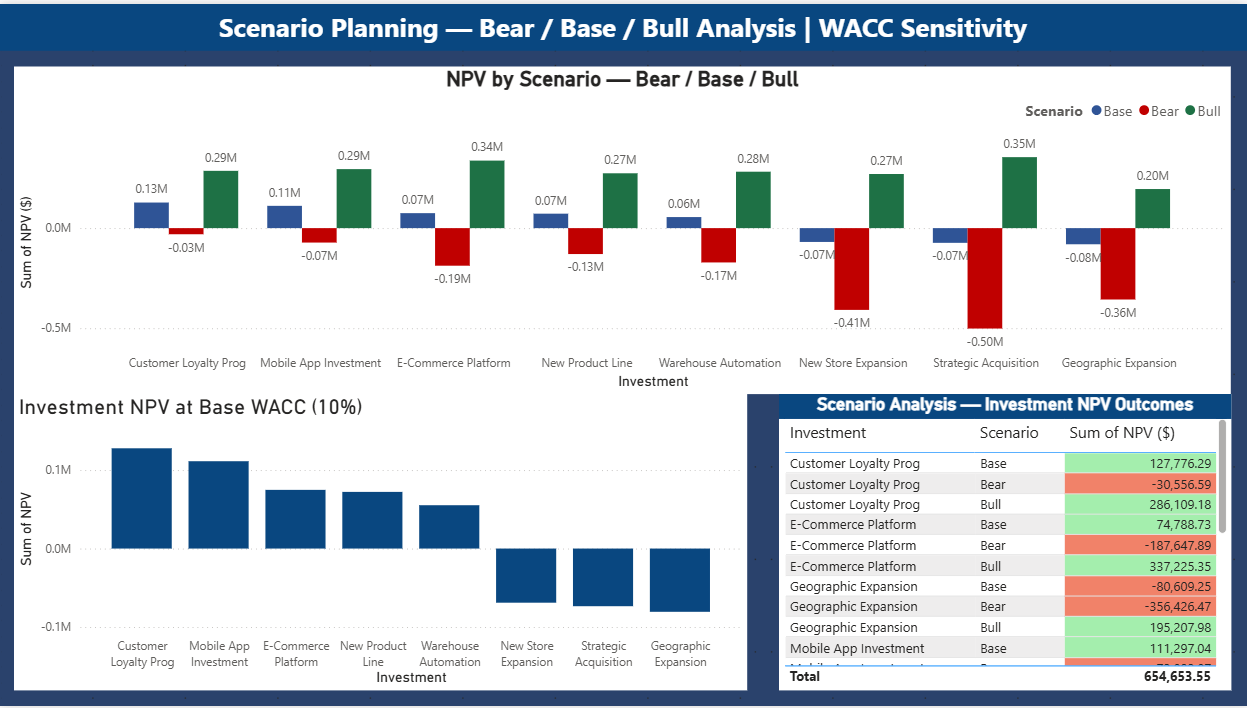

This screenshot's page, from the dashboard's own definition file:
{"tool":"powerbi","page":{"name":"Scenario Planning","canvas":[1280,720],"ordinal":4},"visuals":[{"type":"textbox","box":[0,0,1280,48],"z":0},{"type":"clusteredColumnChart","title":"NPV by Scenario — Bear / Base / Bull","fields":{"Category":["Scenario_Analysis.Investment"],"Y":["Sum(Scenario_Analysis.NPV ($))"],"Series":["Scenario_Analysis.Scenario"]},"box":[16,64,1248,336],"z":1000},{"type":"tableEx","title":"Scenario Analysis — Investment NPV Outcomes","fields":{"Values":["Scenario_Analysis.Investment","Scenario_Analysis.Scenario","Sum(Scenario_Analysis.NPV ($))"]},"box":[800,400,464,304],"z":2000},{"type":"clusteredColumnChart","title":"Investment NPV at Base WACC (10%)","fields":{"Category":["investment_results.Investment"],"Y":["Sum(investment_results.NPV)"]},"box":[16,400,752,304],"z":3000}]}

Visuals, with their boxes in screenshot pixels (x1, y1, x2, y2), scaled from the page's 1280x720 canvas onto the 1247x708 screenshot:
textbox: rect(0, 0, 1246, 47)
"NPV by Scenario — Bear / Base / Bull" clusteredColumnChart: rect(16, 63, 1231, 393)
"Scenario Analysis — Investment NPV Outcomes" tableEx: rect(779, 393, 1231, 692)
"Investment NPV at Base WACC (10%)" clusteredColumnChart: rect(16, 393, 748, 692)
